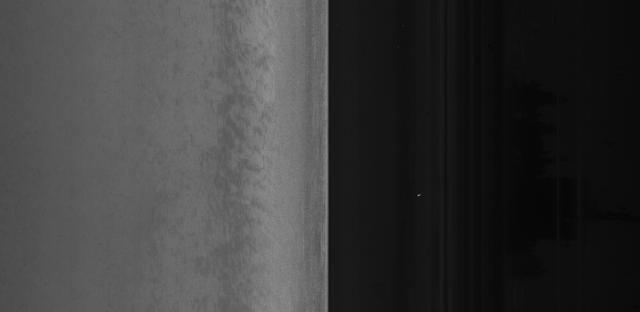silk_spot: (208, 112, 285, 204)
